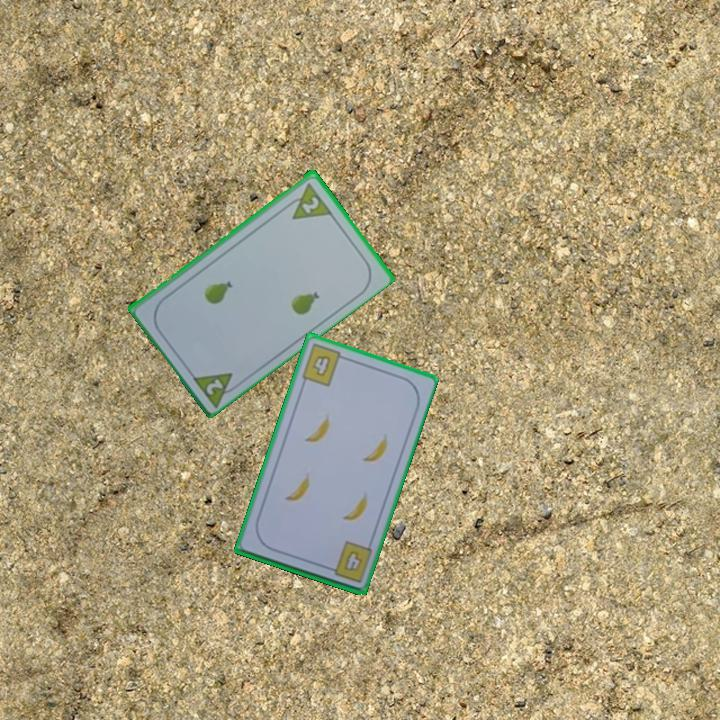2p: (298, 192, 322, 216), (202, 374, 226, 398)
4b: (298, 340, 350, 389), (323, 538, 375, 585)
